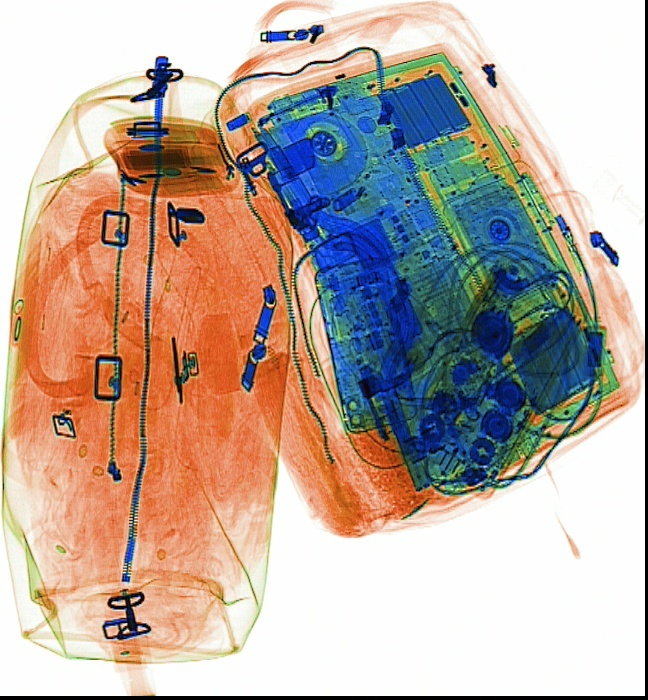powerbank: (500, 301, 608, 416), (374, 69, 472, 150)
